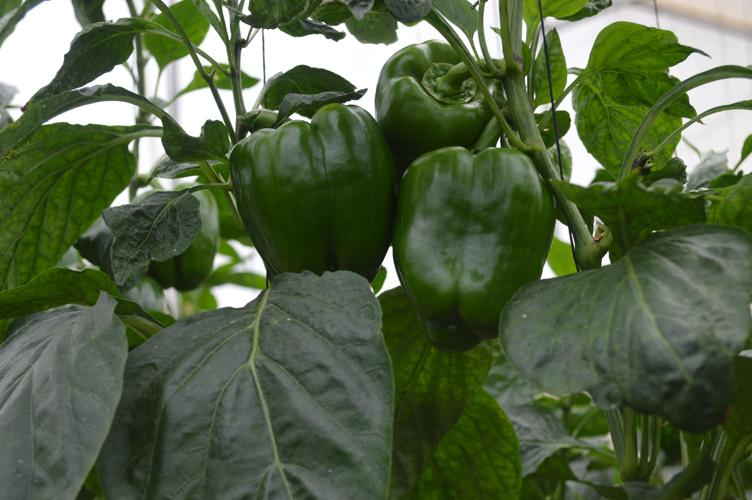BellPepper: (393, 148, 549, 333), (229, 103, 388, 282), (370, 40, 505, 149), (140, 185, 214, 287)
